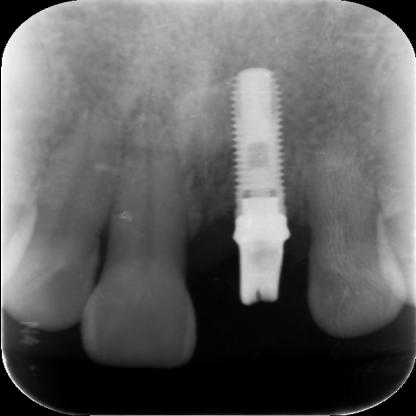Bego: (209, 53, 322, 207)
